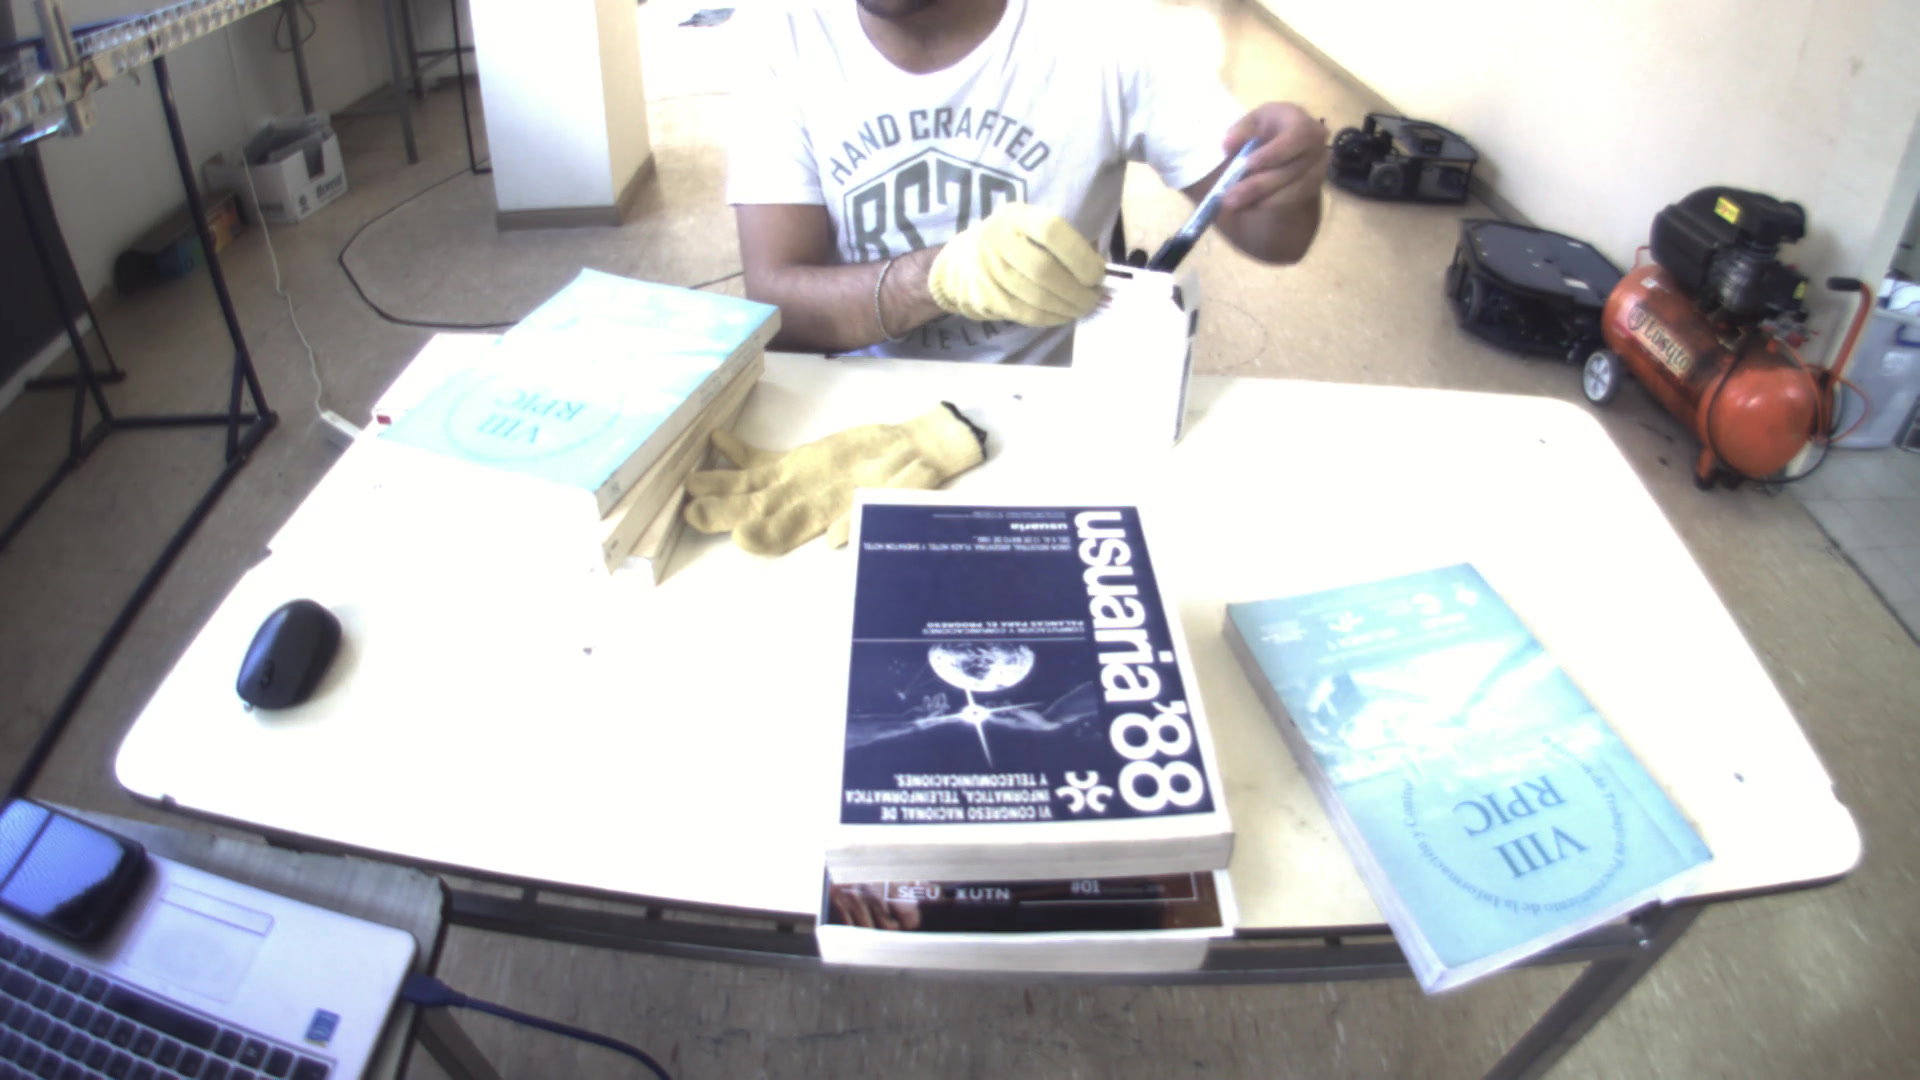hand: (919, 190, 1120, 328), (1189, 88, 1333, 241)
